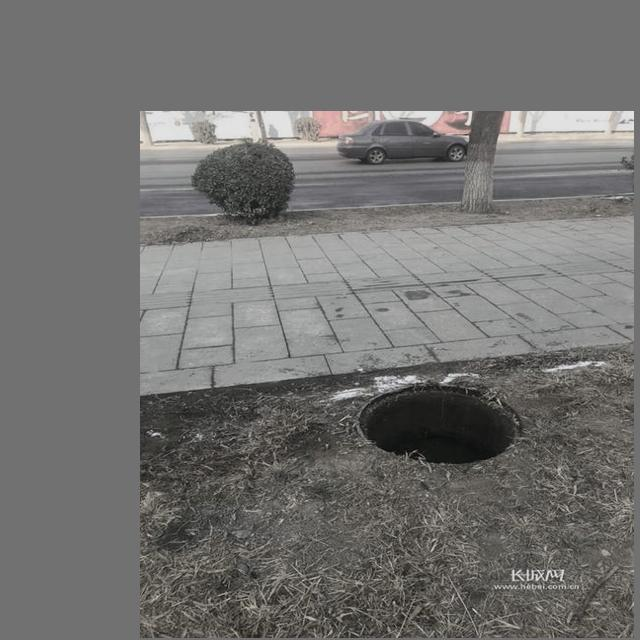lose: (326, 372, 539, 478)
